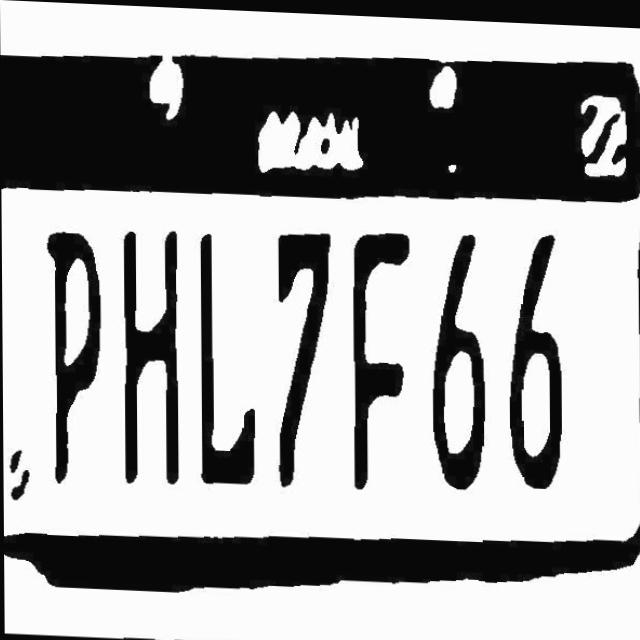6: (428, 227, 493, 488), (505, 223, 567, 490)
7: (270, 225, 334, 486)
f: (347, 227, 416, 493)
h: (113, 224, 188, 487)
l: (195, 227, 262, 487)
p: (41, 226, 107, 487)
